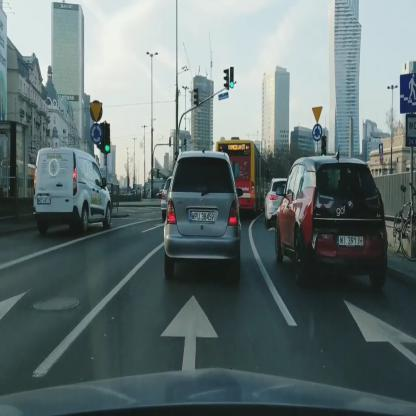cars: (274, 155, 389, 293), (163, 150, 242, 281), (33, 146, 112, 233)
